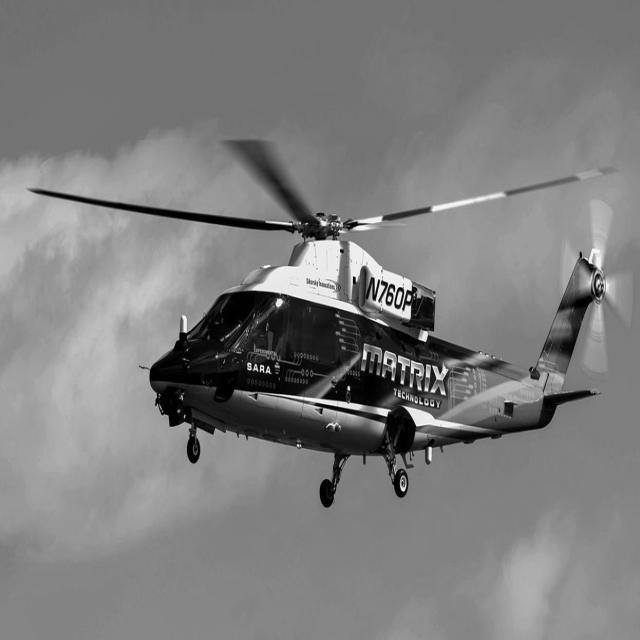helicopter: (26, 137, 637, 510)
